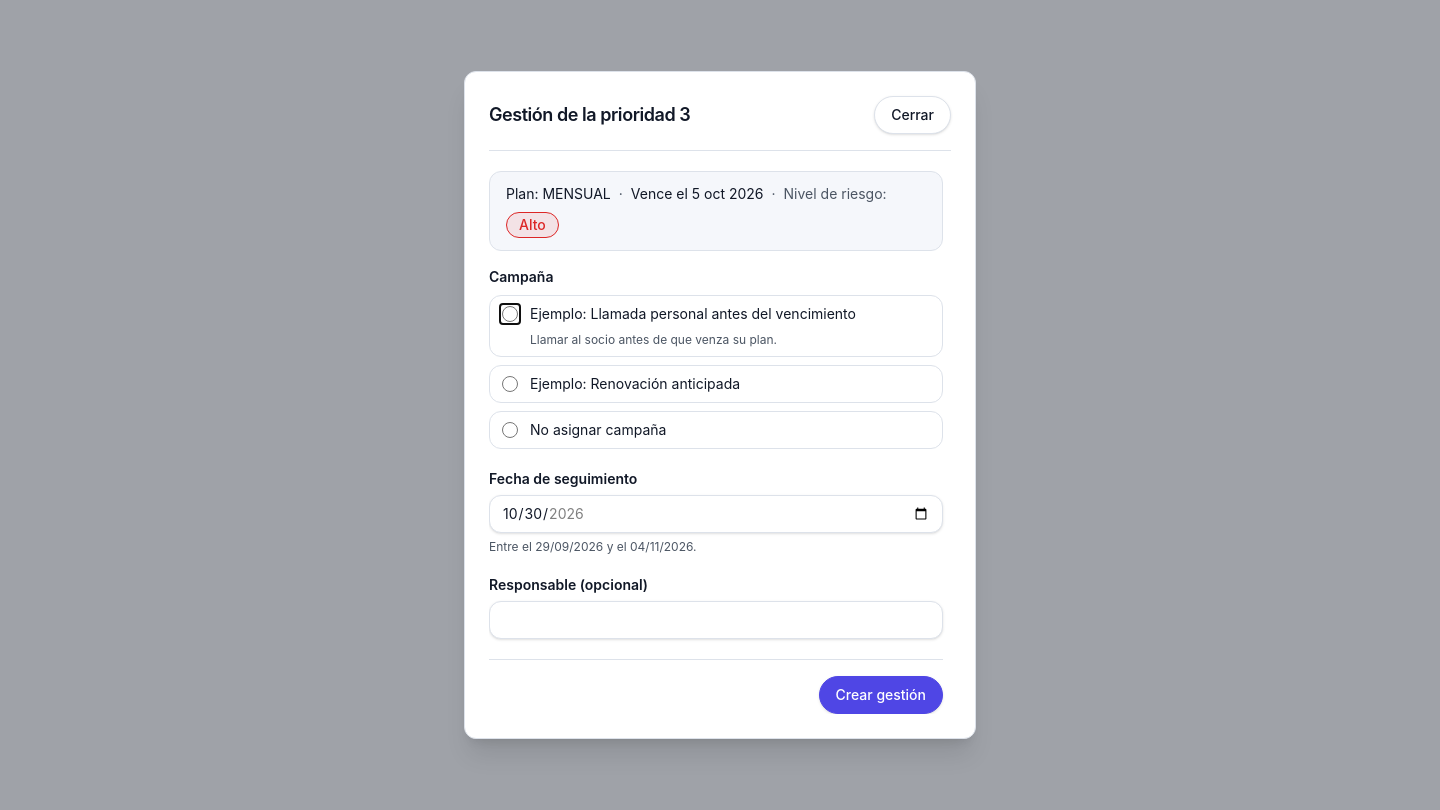
FormularioGestion › parte 1: crear la gestion › "No asignar campaña" oculta fecha y responsable y muestra el aviso; con campaña vuelven
Expected: the text "Sin campaña, la gestión queda cerrada y no tendrá seguimiento." is not shown
Click the radio button labelled "No asignar campaña" at [510, 430], box top-left (502, 422), bottom-right (518, 438)
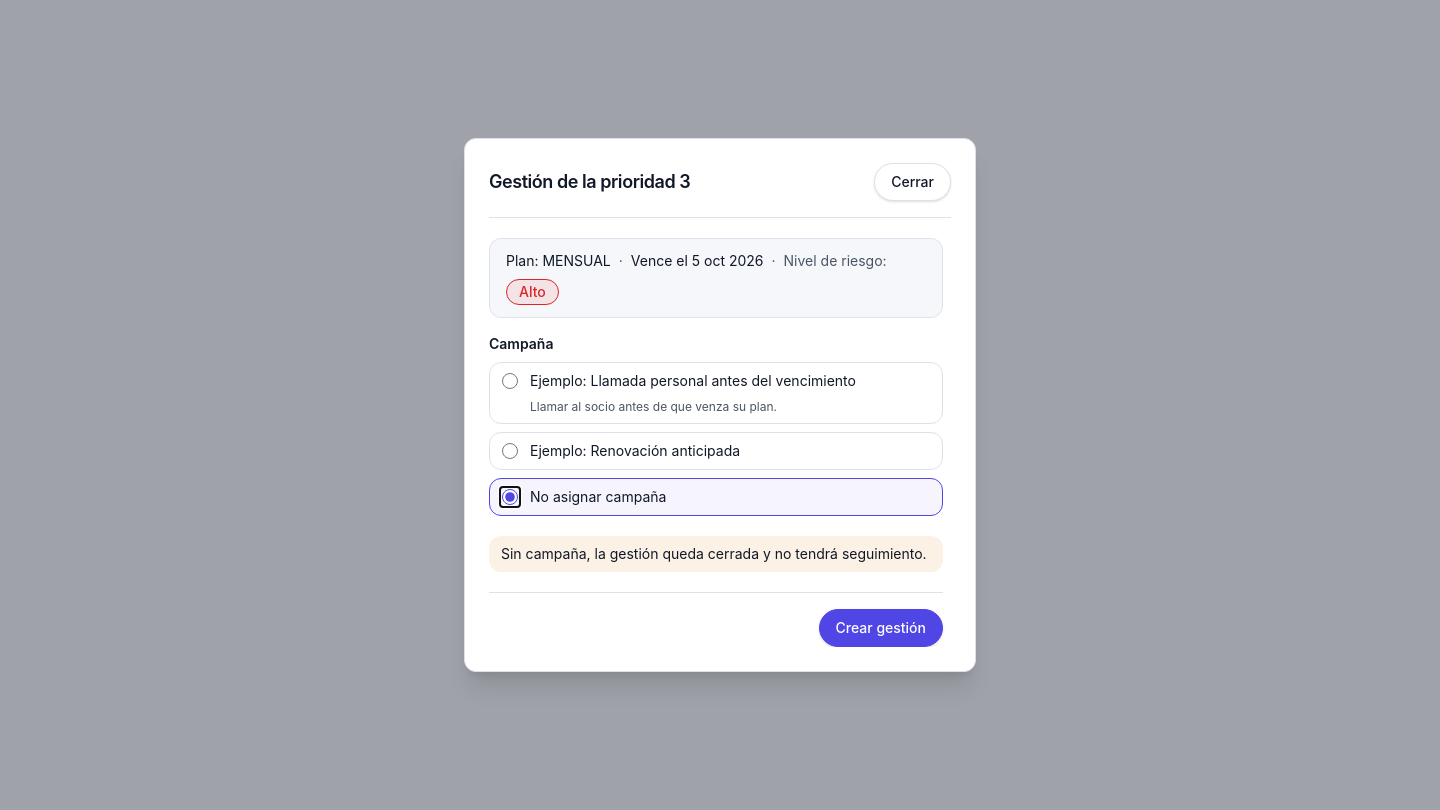
Expected: the label labelled "Fecha de seguimiento" is gone
Expected: the label labelled "Responsable (opcional)" is gone
Expected: the text "Sin campaña, la gestión queda cerrada y no tendrá seguimiento." is shown, top-left (489, 536), bottom-right (943, 572)
Click the radio button labelled "Ejemplo: Renovación anticipada" at [510, 451], box top-left (502, 443), bottom-right (518, 459)
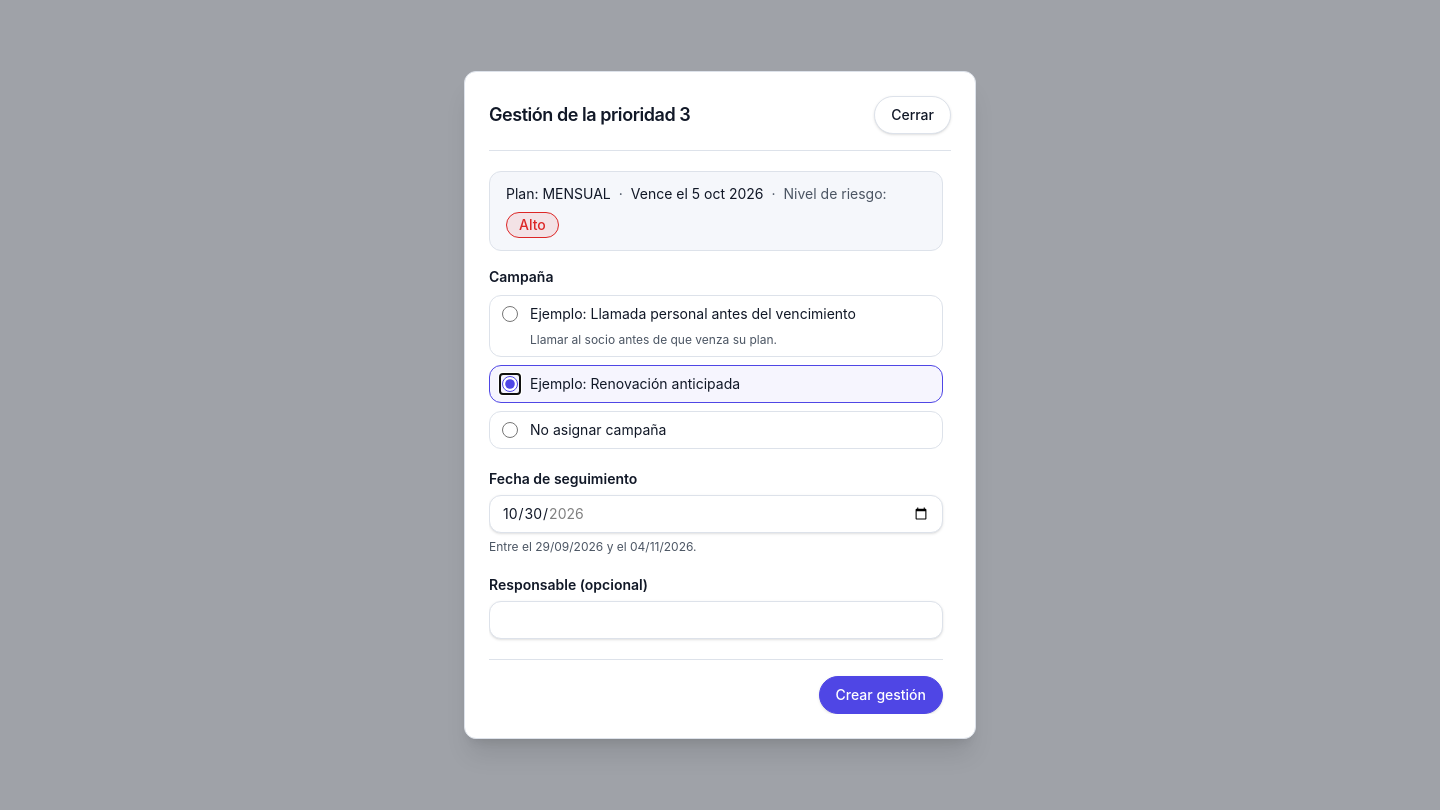
Expected: the date field labelled "Fecha de seguimiento" holds "2026-10-30", top-left (489, 495), bottom-right (943, 533)
Expected: the field labelled "Responsable (opcional)" is shown, top-left (489, 601), bottom-right (943, 639)
Expected: the text "Sin campaña, la gestión queda cerrada y no tendrá seguimiento." is gone
